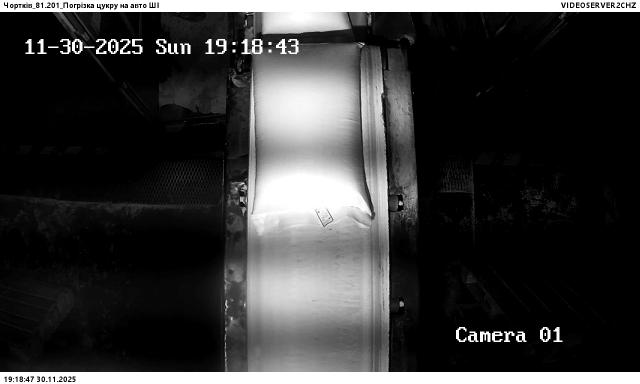bag: (254, 43, 374, 235), (264, 12, 357, 41)
